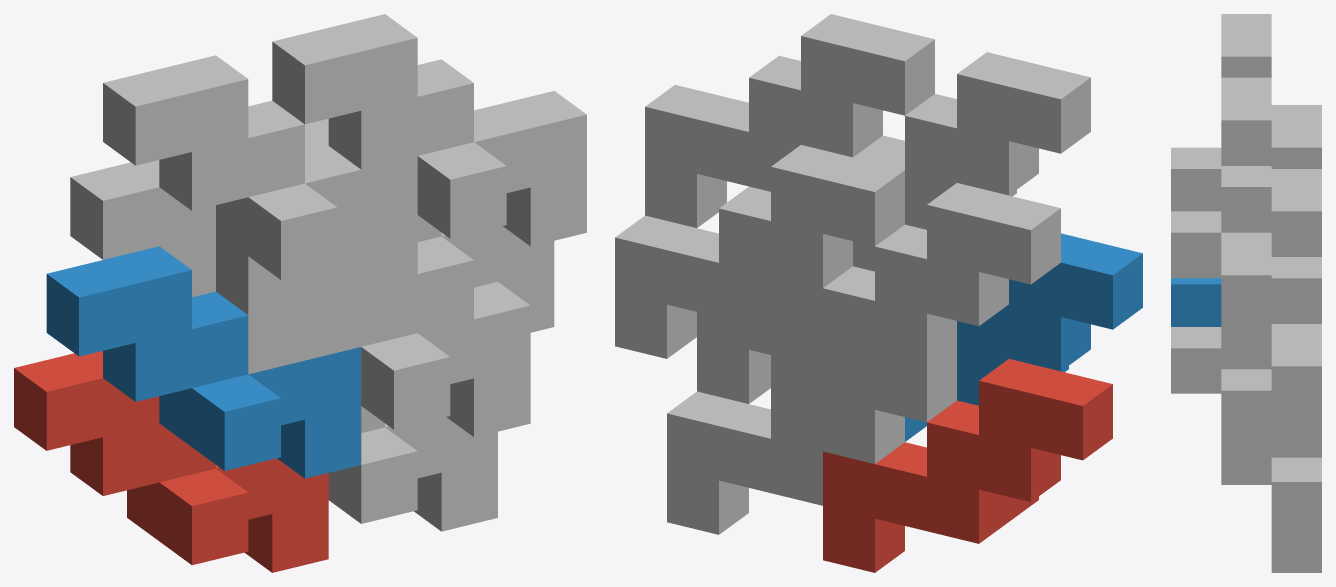
Rendered from tiling.obj.
3 views of the same model, side by side, from view 1: azimuth 30°, elevation 25°; view 2: azimuth 150°, elevation 25°; view 3: azimuth 270°, elevation 25° (orthographic). The views are drawn at different scales.
Visible parts, largest first — view 1: copy_1_domain_8, copy_1_domain_4, copy_1_domain_2, copy_1_domain_1, copy_1_domain_6, copy_1_domain_3, copy_1_domain_5, copy_1_domain_7; view 2: copy_1_domain_1, copy_1_domain_7, copy_1_domain_8, copy_1_domain_3, copy_1_domain_5, copy_1_domain_4, copy_1_domain_2, copy_1_domain_6; view 3: copy_1_domain_8, copy_1_domain_7, copy_1_domain_6, copy_1_domain_4, copy_1_domain_5, copy_1_domain_3, copy_1_domain_2.
Part boxes in pixels (<box>): copy_1_domain_8: <box>272,14,586,246</box>; copy_1_domain_4: <box>103,55,417,287</box>; copy_1_domain_2: <box>46,246,361,478</box>; copy_1_domain_1: <box>14,351,328,572</box>; copy_1_domain_6: <box>216,229,530,437</box>; copy_1_domain_3: <box>70,160,304,374</box>; copy_1_domain_5: <box>328,406,497,531</box>; copy_1_domain_7: <box>305,118,554,332</box>; copy_1_domain_1: <box>823,359,1112,572</box>; copy_1_domain_7: <box>615,145,904,358</box>; copy_1_domain_8: <box>645,14,934,227</box>; copy_1_domain_3: <box>771,183,1060,396</box>; copy_1_domain_5: <box>667,342,956,534</box>; copy_1_domain_4: <box>853,52,1090,229</box>; copy_1_domain_2: <box>905,233,1142,441</box>; copy_1_domain_6: <box>697,241,874,403</box>; copy_1_domain_8: <box>1171,77,1271,366</box>; copy_1_domain_7: <box>1221,169,1321,457</box>; copy_1_domain_6: <box>1171,327,1271,481</box>; copy_1_domain_4: <box>1171,14,1271,211</box>; copy_1_domain_5: <box>1221,457,1321,572</box>; copy_1_domain_3: <box>1271,105,1321,168</box>; copy_1_domain_2: <box>1171,278,1221,326</box>.
Size of the model in its own units: 9 by 9 by 3.
